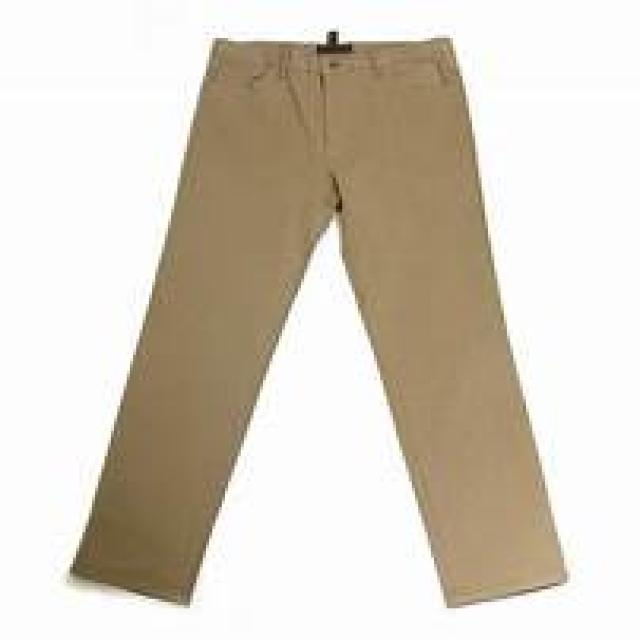long-pants: (68, 39, 568, 613)
